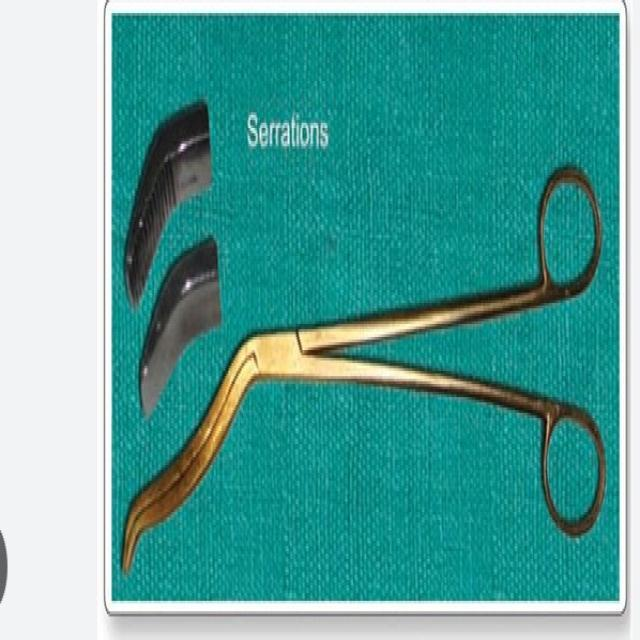Cheatle Forceps: (117, 158, 610, 580)
